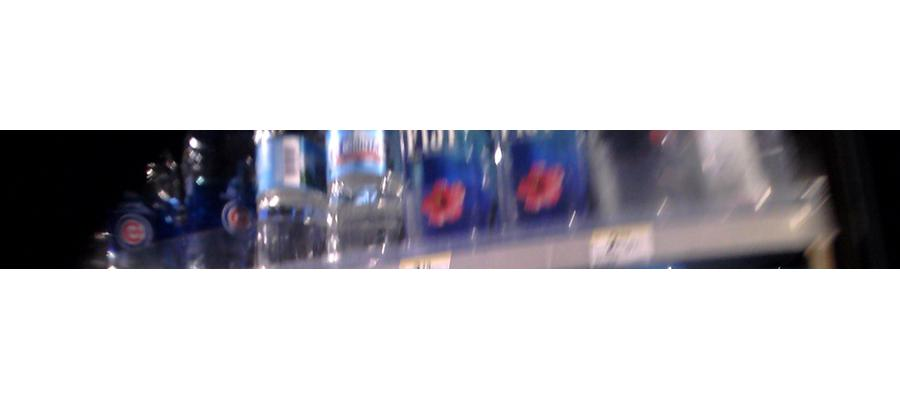bottle: (492, 124, 594, 243), (404, 126, 494, 248), (320, 126, 396, 262), (253, 125, 320, 263), (594, 123, 672, 232), (176, 135, 221, 269), (210, 138, 248, 264)
